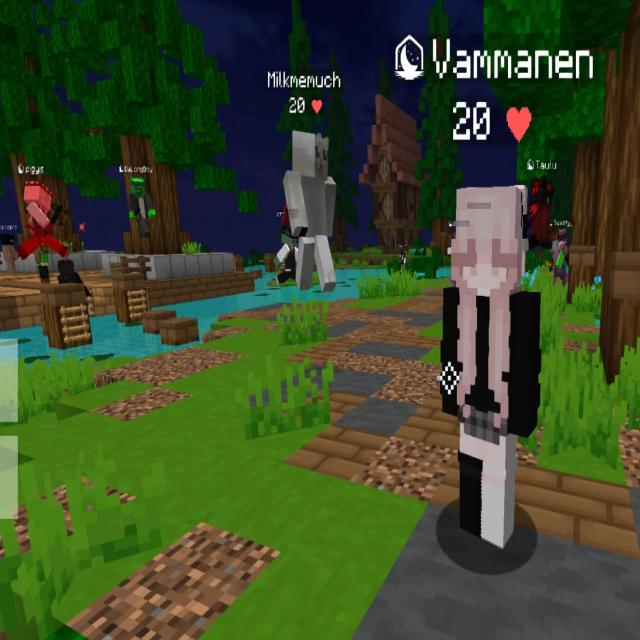Player: (441, 186, 542, 548), (284, 129, 340, 293), (17, 178, 69, 260), (127, 178, 156, 238)
